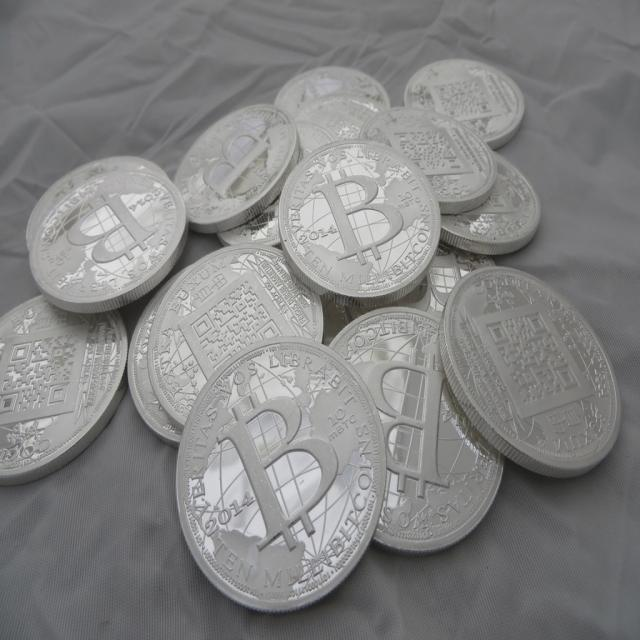Coin: (176, 342, 387, 615), (325, 303, 508, 555), (440, 265, 620, 477), (143, 244, 322, 431), (278, 140, 440, 311), (0, 292, 126, 489), (25, 171, 190, 315), (172, 102, 303, 233), (357, 103, 496, 220), (212, 121, 334, 250), (24, 156, 172, 252), (440, 148, 545, 257), (406, 55, 526, 150), (127, 266, 186, 452), (391, 257, 498, 330), (272, 62, 394, 121), (289, 95, 388, 142)
